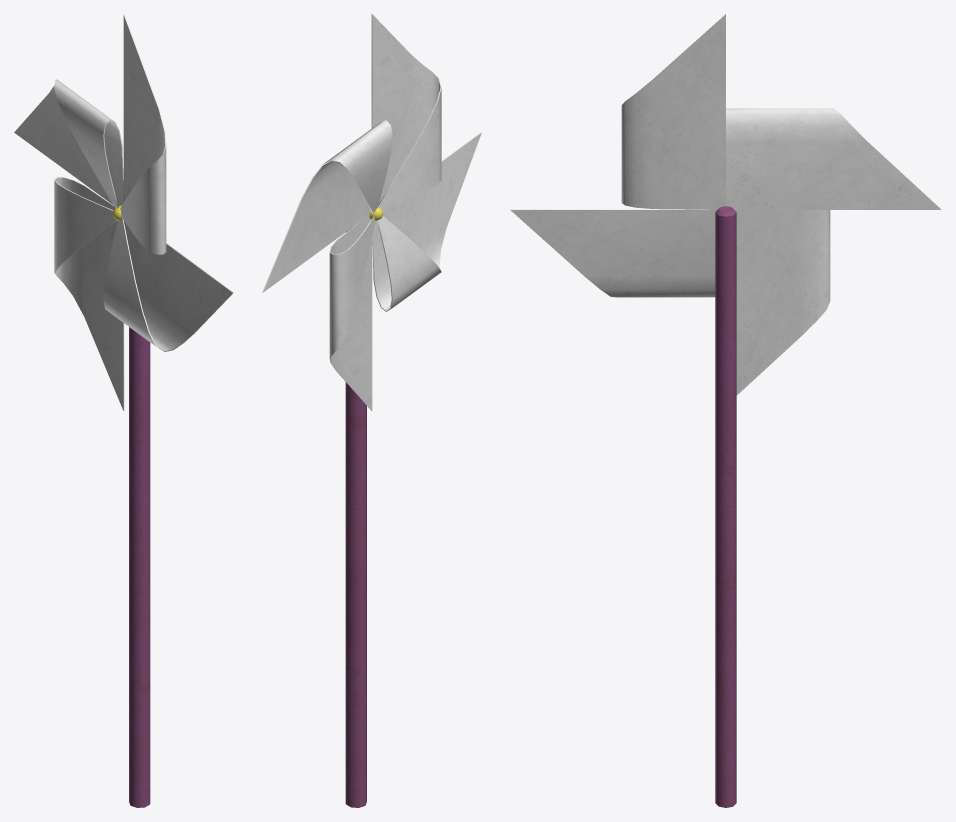
Rendered from Pinwheel_03.fbx.
3 renders of one model, left to right at view 1: azimuth 30°, elevation 25°; view 2: azimuth 150°, elevation 25°; view 3: azimuth 270°, elevation 25°, orthographic.
Visible parts, largest first — view 1: Pinwheel_Blades.003, Pinwheel_Handle.001; view 2: Pinwheel_Blades.003, Pinwheel_Handle.001; view 3: Pinwheel_Blades.003, Pinwheel_Handle.001.
Boxes of the visible parts, x1,y1,x2,y2 form: Pinwheel_Blades.003: (14, 14, 233, 410); Pinwheel_Handle.001: (129, 327, 150, 807); Pinwheel_Blades.003: (262, 14, 481, 410); Pinwheel_Handle.001: (345, 228, 366, 807); Pinwheel_Blades.003: (510, 14, 941, 395); Pinwheel_Handle.001: (715, 206, 736, 807).
Bounding box in the file's own units: 0.242 × 2 × 4.
